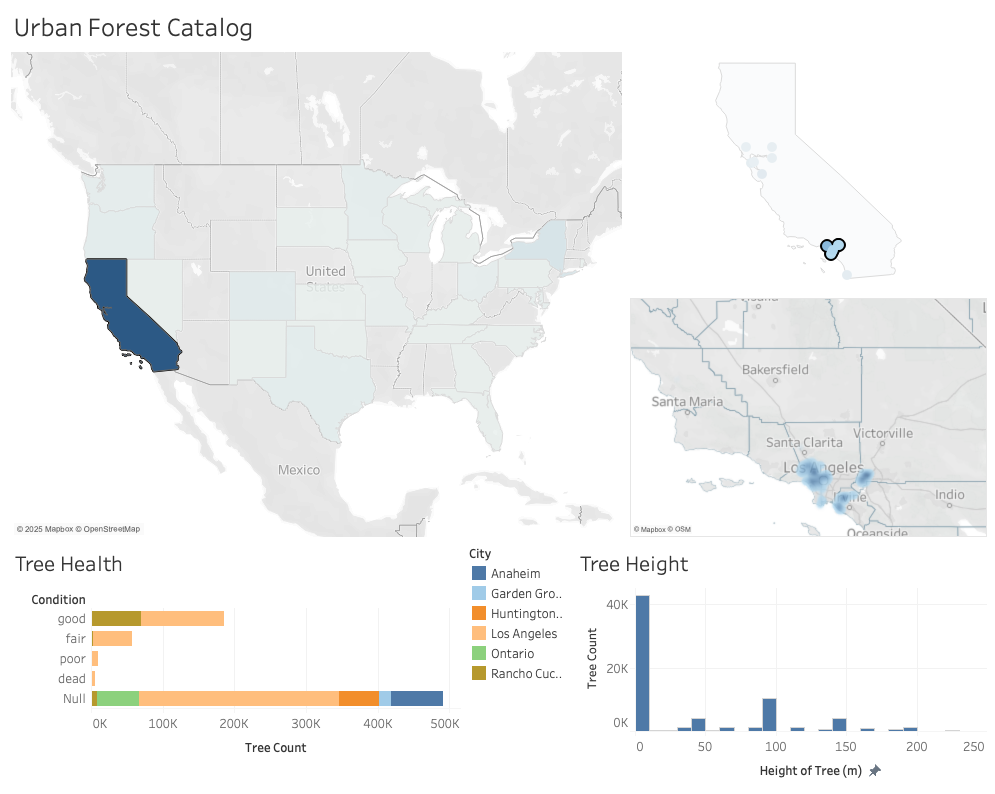

What the dashboard file says about the page in this screenshot:
{"tool":"tableau","page":{"name":"Urban Tree Catalog","canvas":[1000,800],"ordinal":1},"visuals":[{"type":"title","box":[8,8,984,42]},{"type":"worksheet","title":"State Map","mark":"Multipolygon","box":[8,50,619,493]},{"type":"worksheet","title":"Cities Map","mark":"Automatic","box":[627,50,365,246.5]},{"type":"worksheet","title":"City Map","mark":"Heatmap","rows":["latitude_coordinate"],"cols":["longitude_coordinate"],"box":[627,296.5,365,246.5]},{"type":"worksheet","title":"Tree Health","mark":"Automatic","rows":["condition"],"cols":["id"],"box":[8,543,458,249]},{"type":"legend","title":"Tree Health","param":"[federated.1ui72kf1e270yf10xwof80297bqx].[none:city:nk]","box":[466,543,107,249]},{"type":"worksheet","title":"Height Histogram","mark":"Automatic","rows":["height_M"],"cols":["height M (bin)"],"box":[573,543,419,249]}]}

Visuals, with their boxes in screenshot pixels (x1, y1, x2, y2), scaled from the page's 1000x800 canvas onto the 995x794 screenshot:
title: 8 8 987 50
"State Map" worksheet (Multipolygon marks): 8 50 624 539
"Cities Map" worksheet: 624 50 987 294
"City Map" worksheet (Heatmap marks): 624 294 987 539
"Tree Health" worksheet: 8 539 464 786
"Tree Health" legend: 464 539 570 786
"Height Histogram" worksheet: 570 539 987 786
